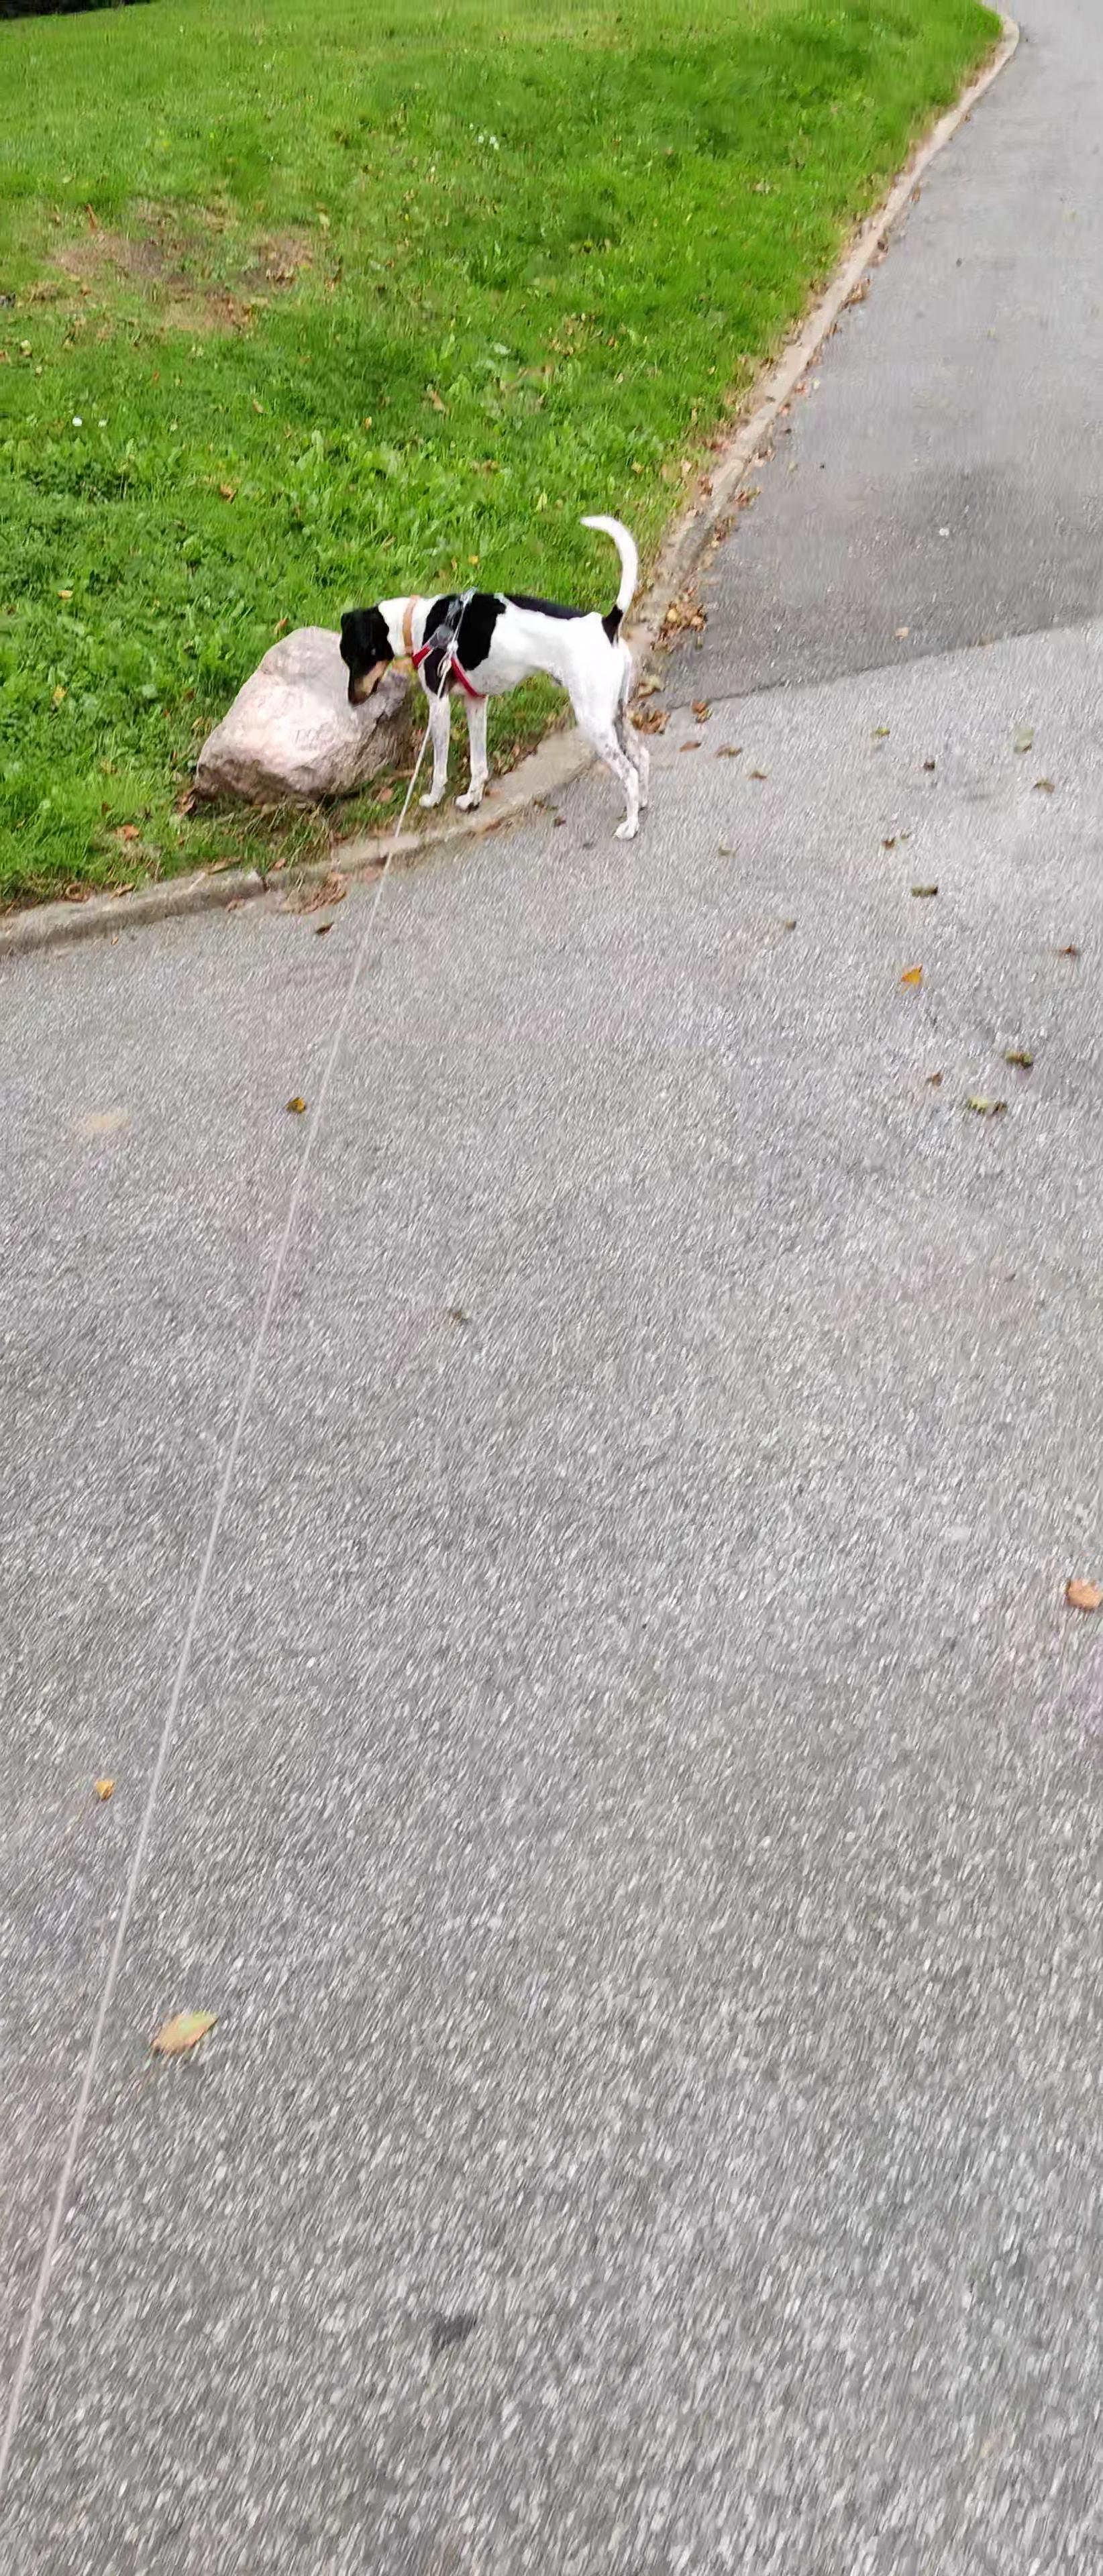Dog: (322, 509, 664, 839)
